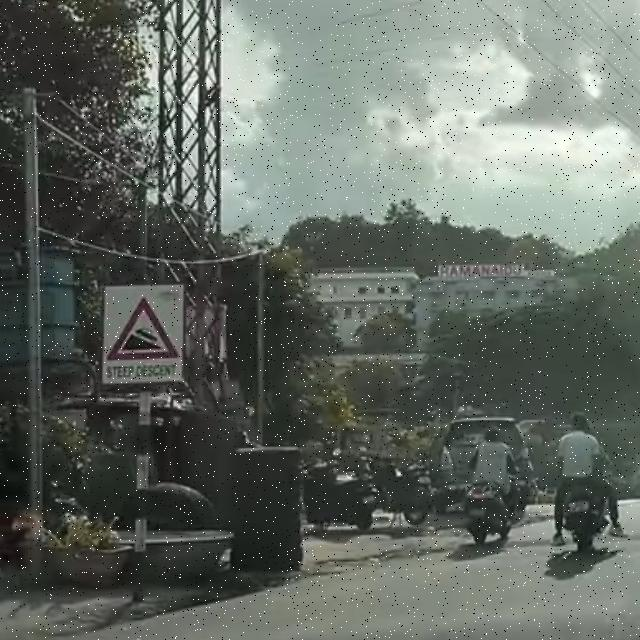steep_descent: (98, 278, 187, 399)
